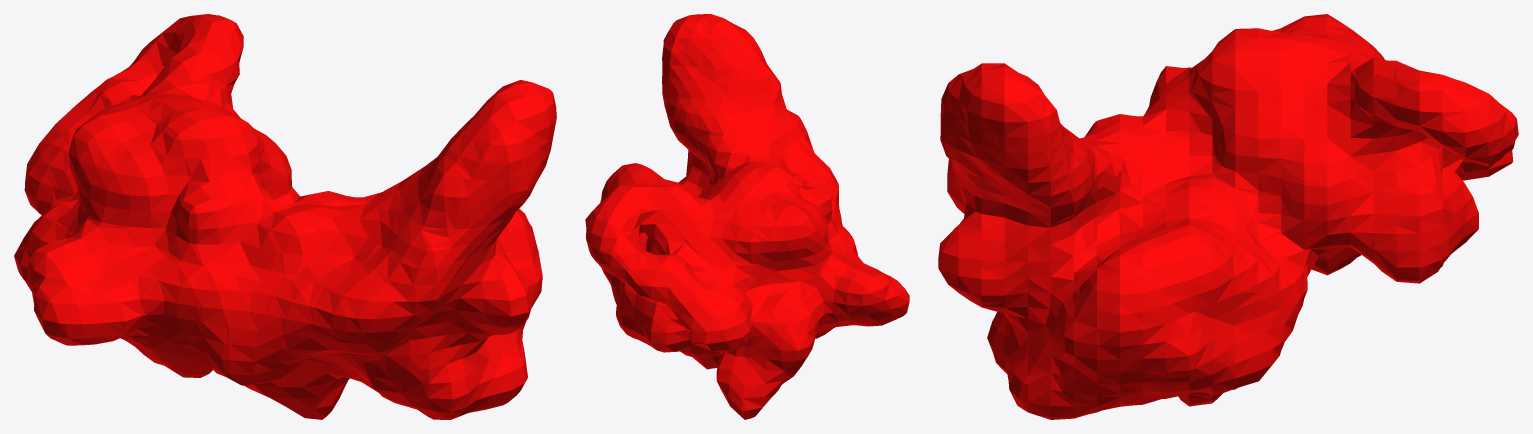
File: rstB_coarse.dae
3 renders of one model, left to right at view 1: azimuth 30°, elevation 25°; view 2: azimuth 150°, elevation 25°; view 3: azimuth 270°, elevation 25°, orthographic. The views are drawn at different scales.
Visible parts, largest first — view 1: rstB; view 2: rstB; view 3: rstB.
Part boxes in pixels (<box>): rstB: <box>14,14,556,419</box>; rstB: <box>585,14,909,419</box>; rstB: <box>938,14,1518,419</box>.
Bounding box in the file's own units: 79.06 × 62.77 × 84.
